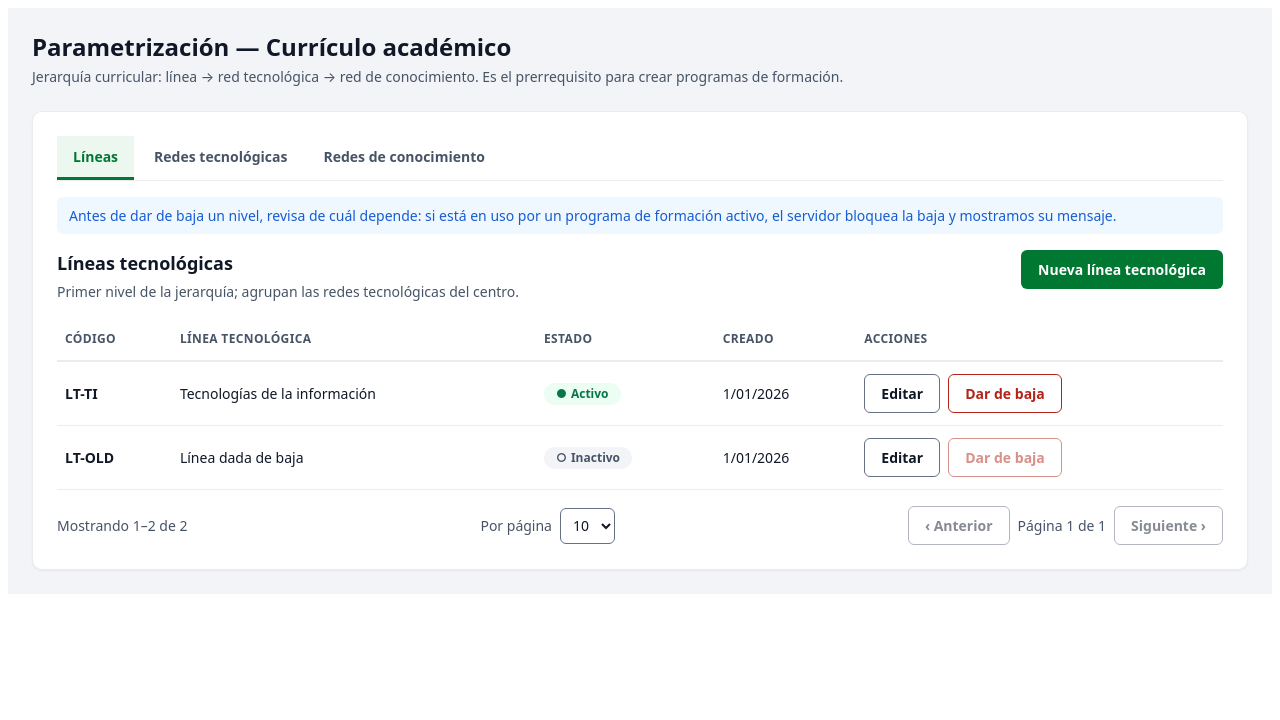
Scenario: CurriculumSetupPage › E1: crea una línea con el cuerpo del contrato
Expected: the text "Tecnologías de la información" is shown, x1=172 y1=361 x2=536 y2=426
Click the button "Nueva línea tecnológica" at (1122, 270), box x1=1021 y1=250 x2=1223 y2=289
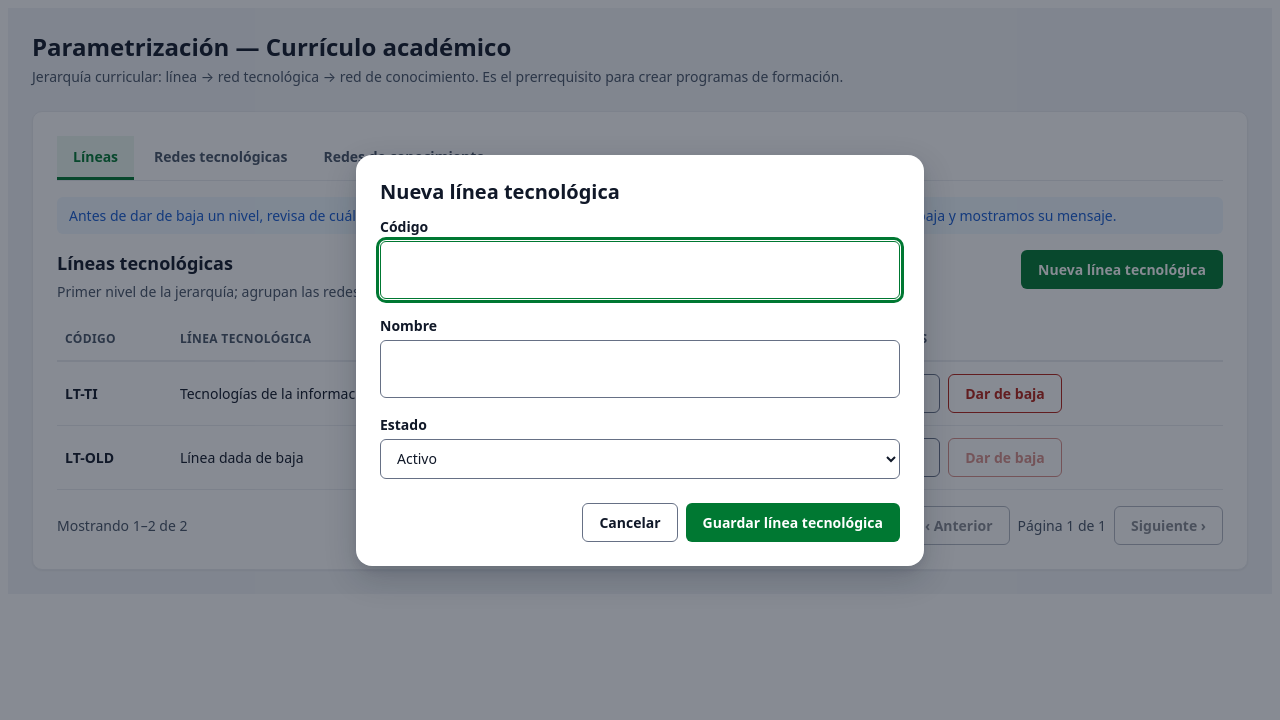
Type "LT-NEW" into the field labelled "Código" at (640, 270), box x1=380 y1=240 x2=900 y2=298
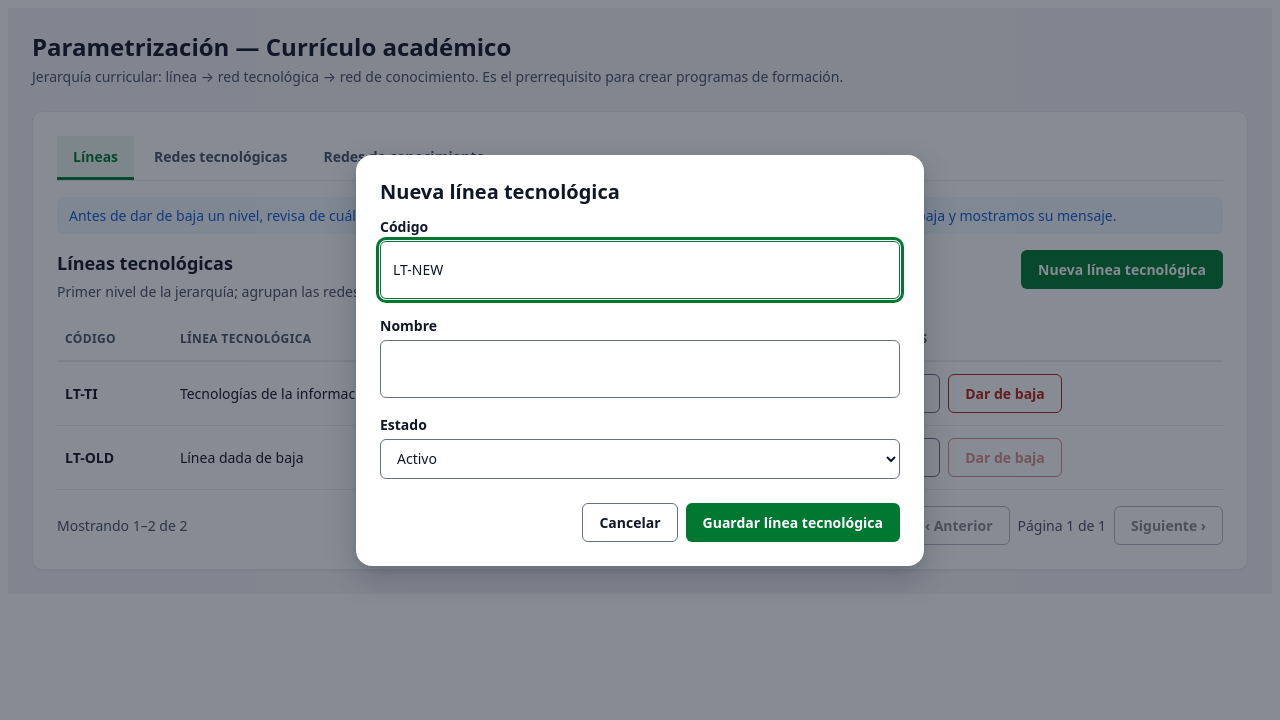
Type "Línea nueva" into the field labelled "Nombre" at (640, 368), box x1=380 y1=340 x2=900 y2=398
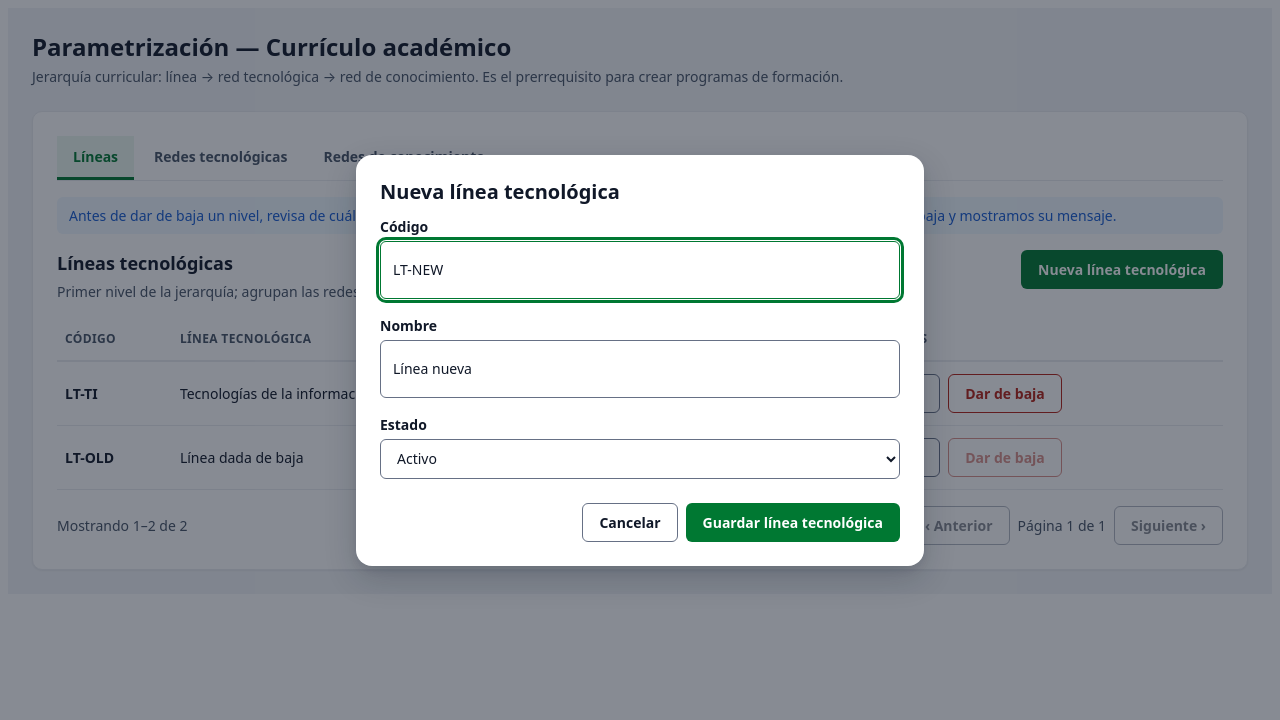
Click the button "Guardar línea tecnológica" at (793, 522), box x1=686 y1=502 x2=900 y2=542
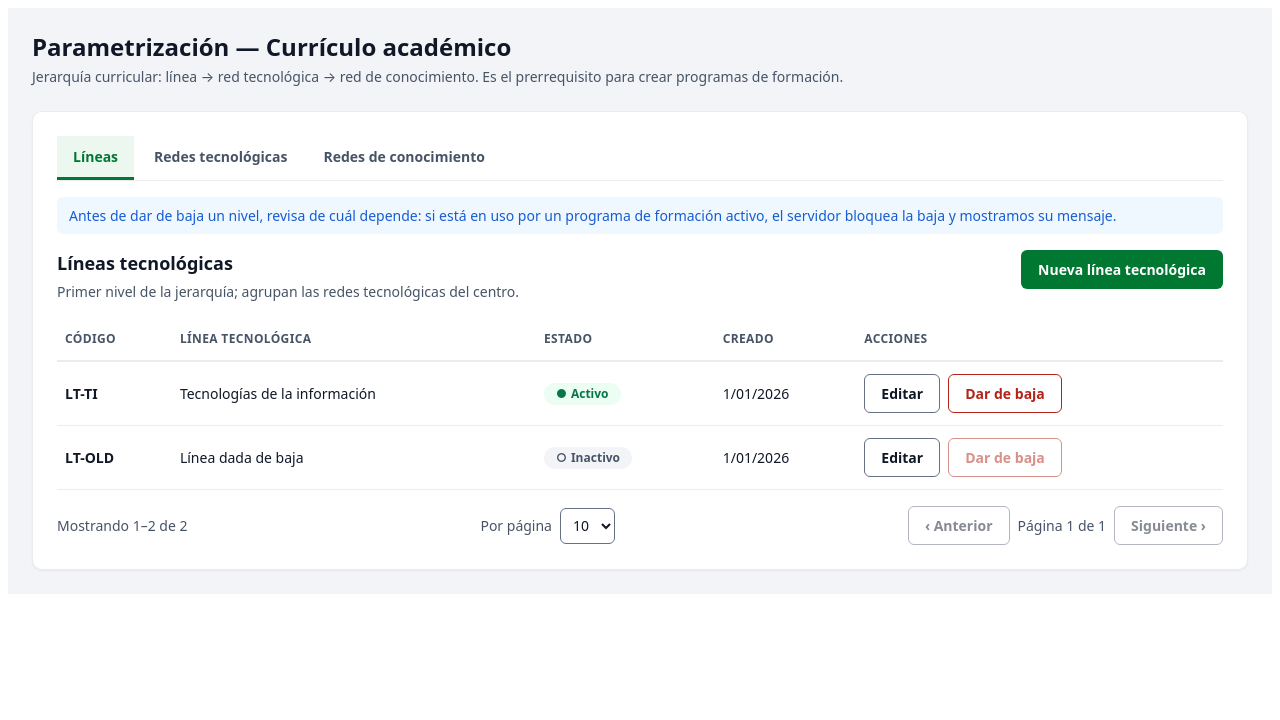
Expected: the dialog is gone
